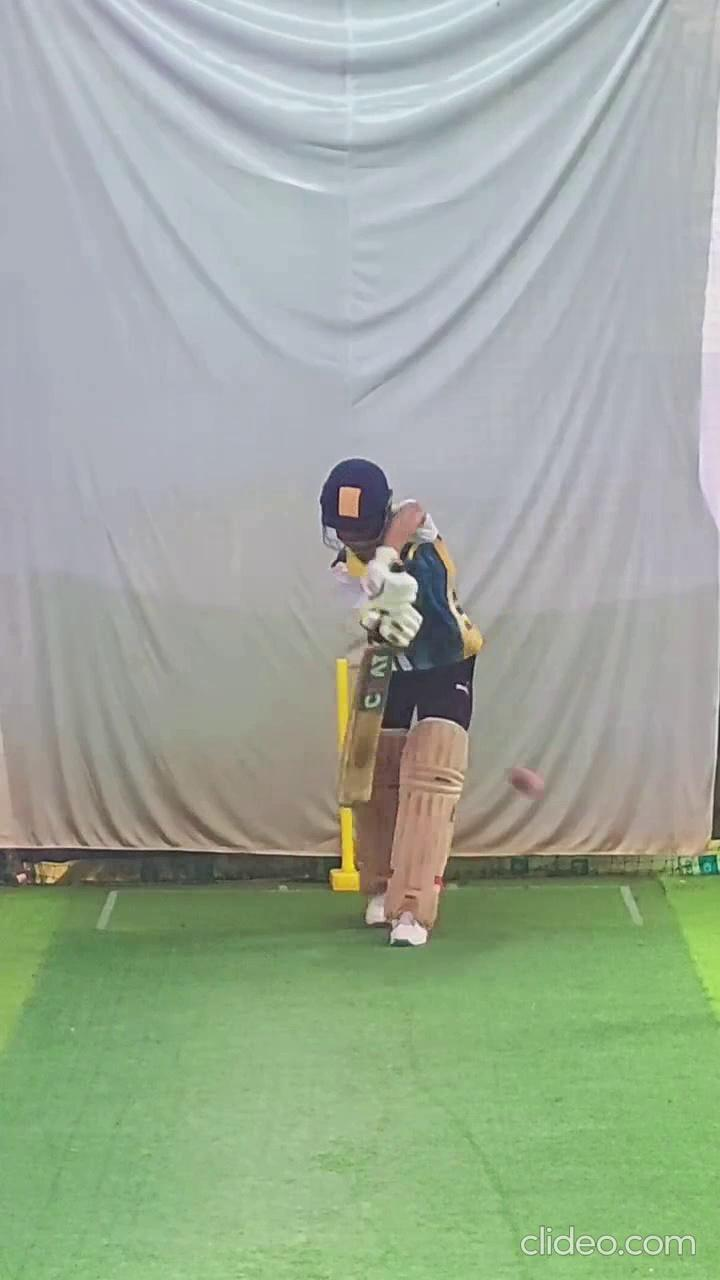bat: (335, 643, 396, 811)
